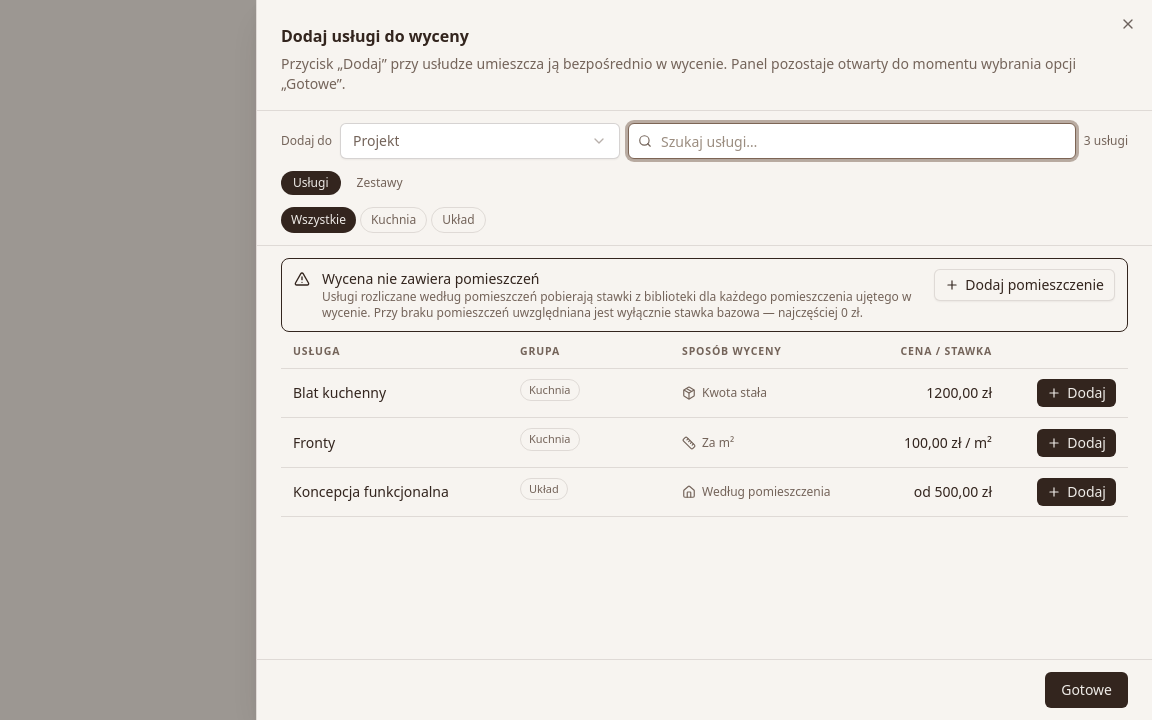
it: ScopePanel — dodawanie usług z tabeli (T-71) › JEDNO ostrzeżenie o braku pomieszczeń nad listą, ze skrótem, który je dodaje
Expected: the message shows "Wycena nie zawiera pomieszczeń", [322,269,540,288]
Expected: the text "Wycena nie zawiera pomieszczeń" is shown once, [322,269,540,288]
Click the button "Dodaj pomieszczenie": (1025, 285) [934,269,1115,301]
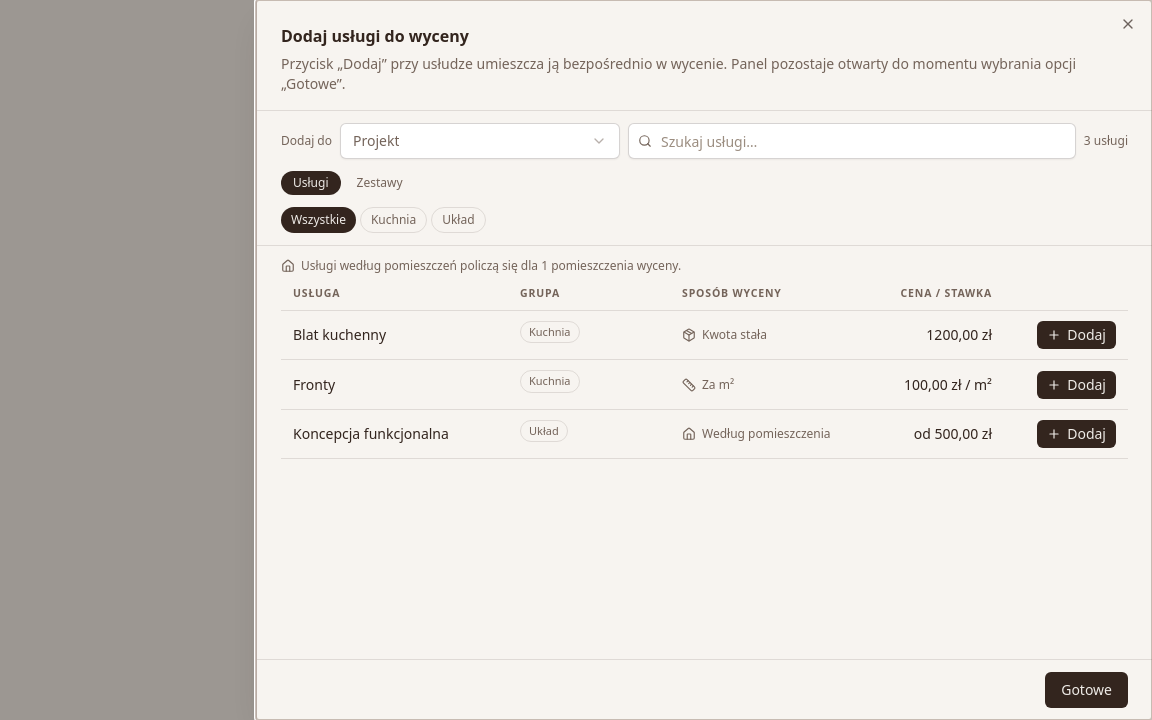
Result: the message is gone
Result: the text "Usługi według pomieszczeń policzą się dla 1 pomieszczenia wyceny." is shown at [281,257,681,274]
